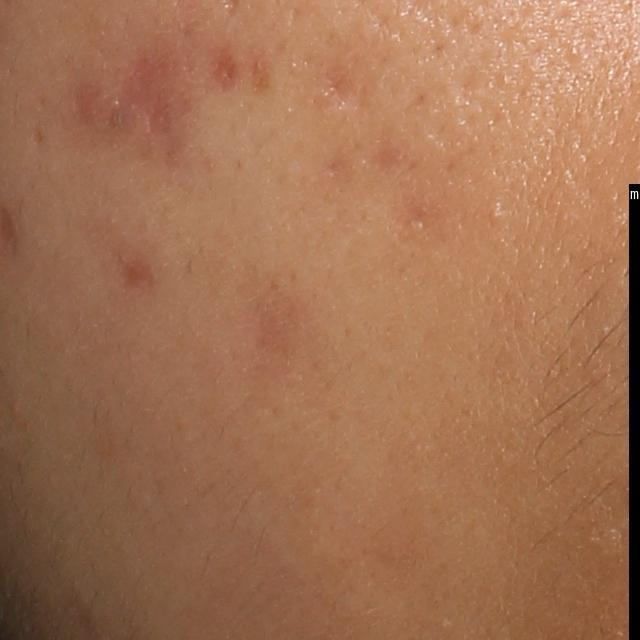atrophic_scar: (122, 57, 171, 142), (322, 68, 359, 110)
